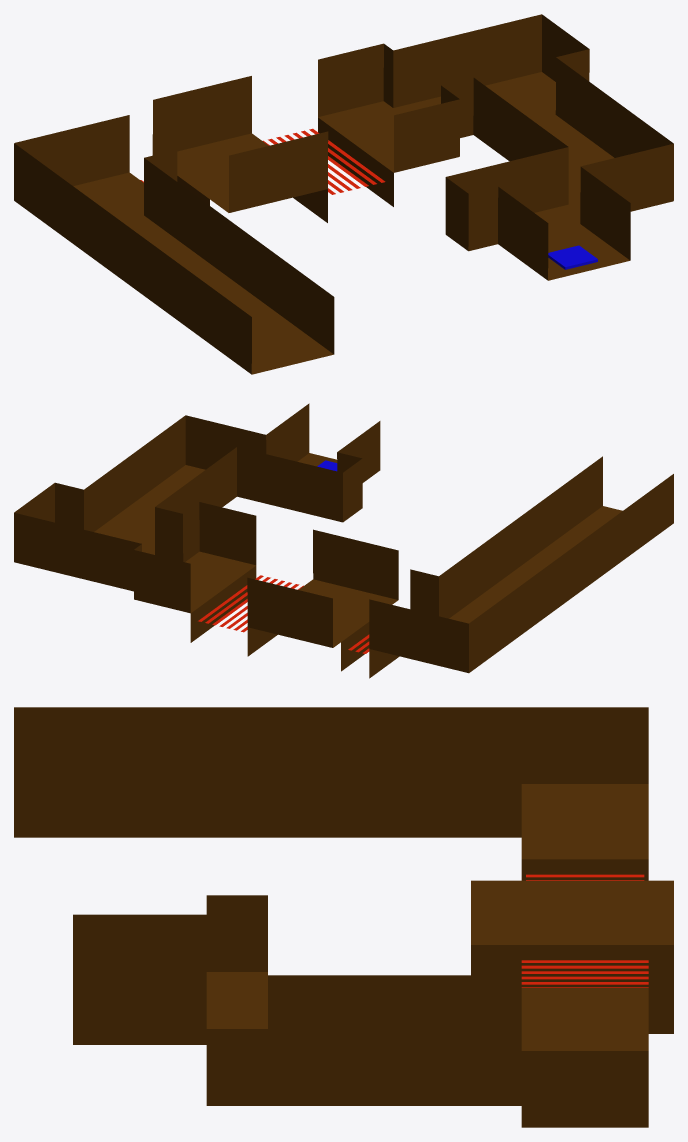
Rendered from Level_1_Blockout.fbx.
3 renders of one model, top to bottom at view 1: azimuth 30°, elevation 25°; view 2: azimuth 150°, elevation 25°; view 3: azimuth 270°, elevation 25°, orthographic. The views are drawn at different scales.
Parts seen in each view (by area): view 1: Interactable Object; view 2: Interactable Object; view 3: Interactable Object.
Part boxes in pixels (x1,y1,x2,y2): Interactable Object: (14, 14, 673, 374); Interactable Object: (14, 403, 673, 678); Interactable Object: (14, 707, 673, 1127).
Bounding box in the file's own units: 6410 × 1068 × 5200.
